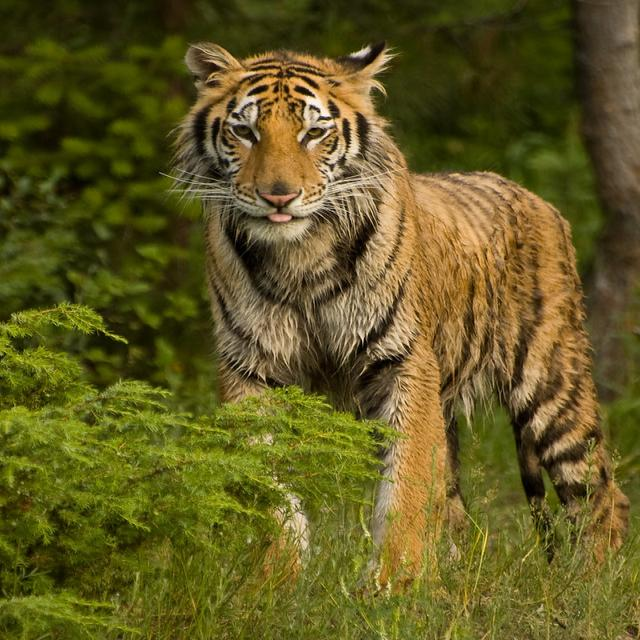Tiger: (157, 27, 629, 591)
